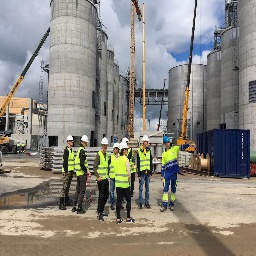helmet: (118, 142, 132, 151), (141, 135, 151, 144), (162, 135, 172, 144), (80, 134, 89, 143), (101, 137, 109, 147), (66, 135, 74, 143), (113, 142, 119, 150)
person: (116, 142, 136, 225), (161, 135, 180, 216), (94, 137, 111, 220), (75, 133, 90, 215), (137, 134, 153, 210), (60, 133, 74, 211), (109, 142, 119, 212)
vest: (162, 149, 182, 176), (116, 155, 131, 189), (96, 148, 110, 182), (138, 146, 153, 176), (75, 146, 89, 177), (62, 146, 74, 175), (110, 153, 117, 181)
